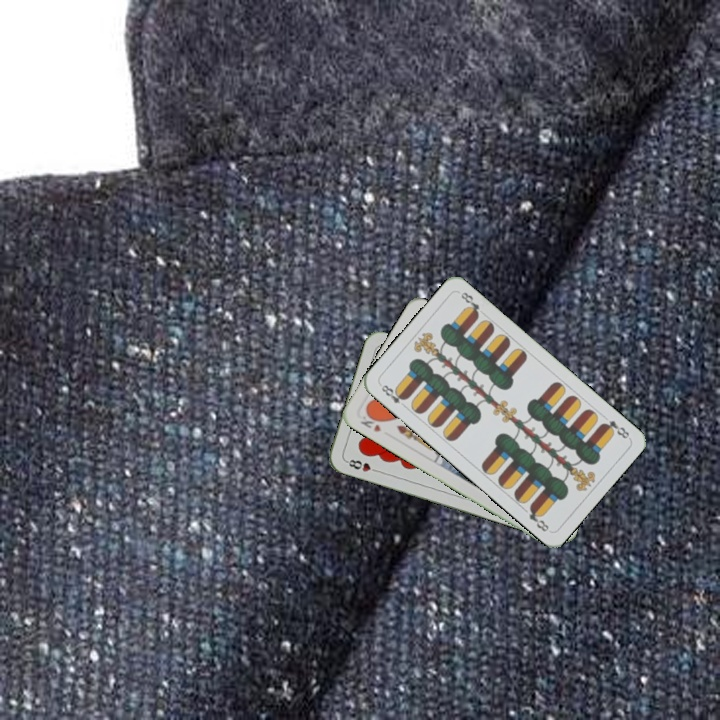E8: (377, 381, 410, 411), (597, 416, 632, 441)
H8: (342, 455, 382, 475)
HK: (356, 409, 384, 435)
